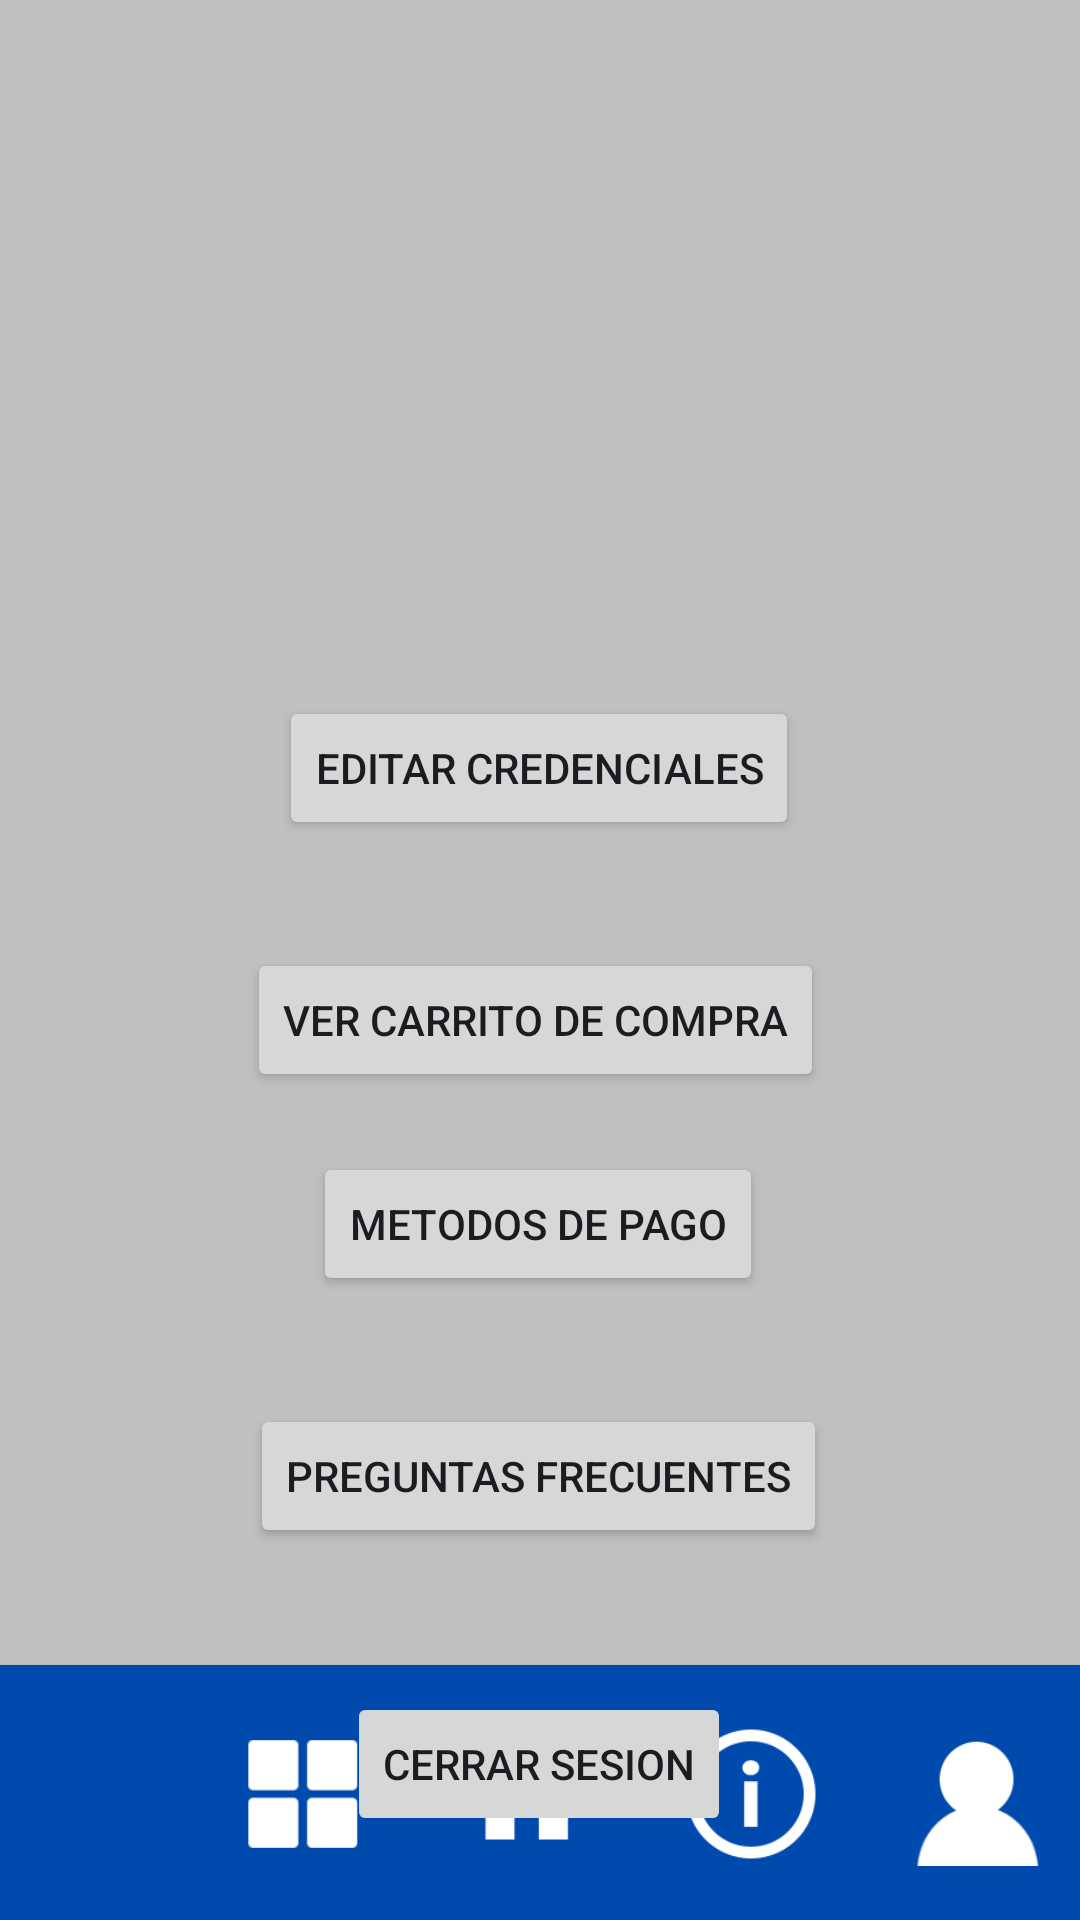

Locate icon controls on the screen. Image size 1080 × 1920, boxes as box(x1, y1, x2, y2).
abouticon: box(676, 1719, 816, 1859)
categoryicon: box(248, 1740, 358, 1848)
profileicon: box(917, 1741, 1039, 1866)
